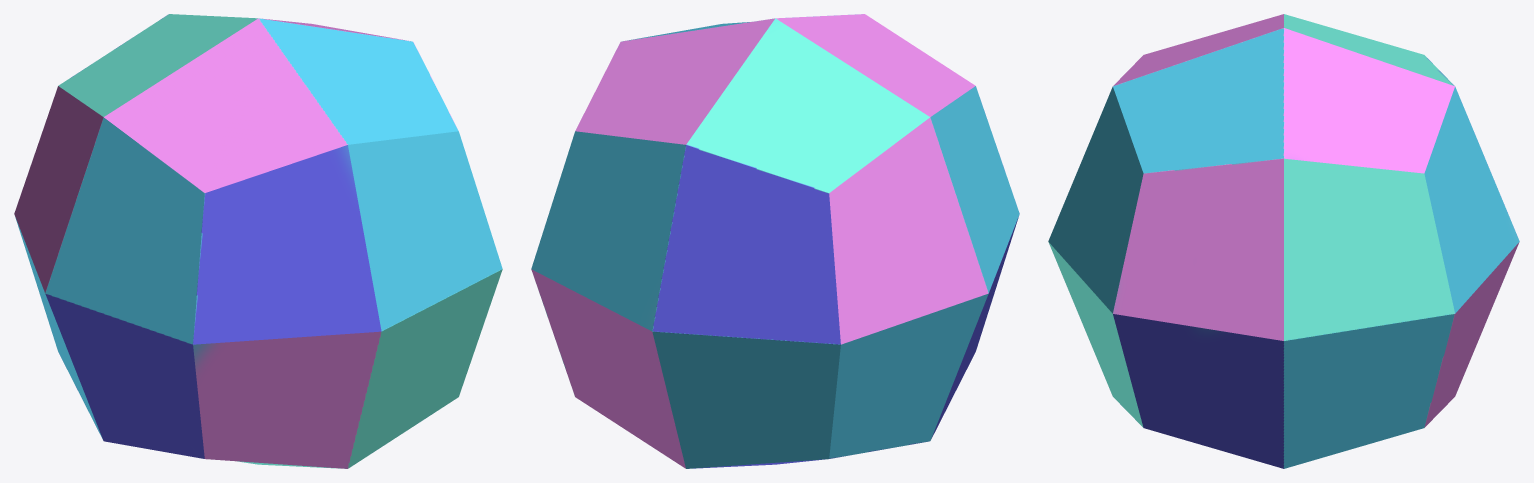
Rendered from bubbles.gltf.
3 views of the same model, side by side, from view 1: azimuth 30°, elevation 25°; view 2: azimuth 150°, elevation 25°; view 3: azimuth 270°, elevation 25° (orthographic). The views are drawn at different scales.
Visible parts, largest first — view 1: Cube; view 2: Cube; view 3: Cube.
Boxes of the visible parts, x1,y1,x2,y2 form: Cube: (14, 14, 502, 468); Cube: (531, 14, 1019, 468); Cube: (1048, 14, 1519, 468).
Bounding box in the file's own units: 1.68 × 1.68 × 1.68.
1 material, 1 textured.
